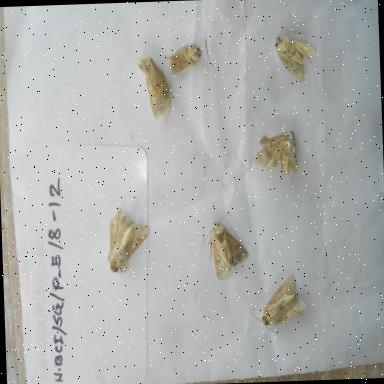abw: (98, 200, 156, 284), (194, 210, 252, 286), (245, 271, 310, 337), (249, 125, 304, 193), (132, 49, 177, 130), (270, 26, 318, 92), (161, 34, 208, 80)
